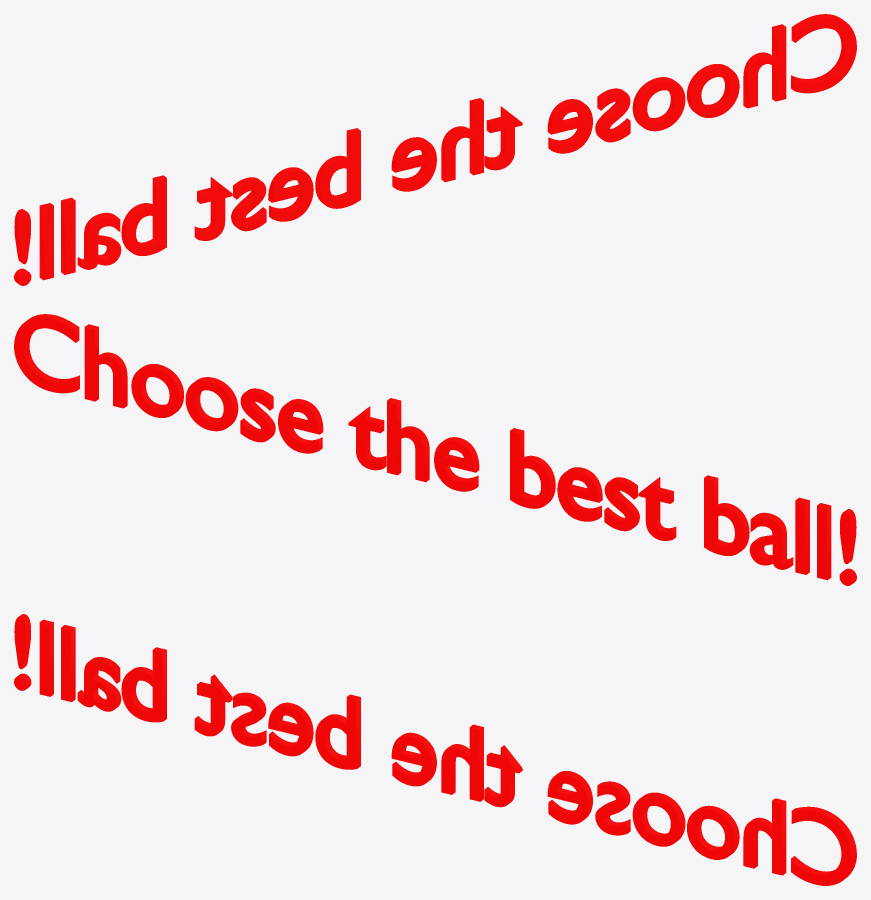
The model's file is choose_ball.gltf.
3 views of the same model, one above another, from view 1: azimuth 30°, elevation 25°; view 2: azimuth 150°, elevation 25°; view 3: azimuth 330°, elevation 25° (orthographic).
Visible parts, largest first — view 1: Text; view 2: Text; view 3: Text.
Part boxes in pixels (x1=…): Text: x1=14, y1=14, x2=856, y2=285; Text: x1=14, y1=314, x2=856, y2=585; Text: x1=14, y1=614, x2=856, y2=885.
Bounding box in the file's own units: 8.55 × 0.7201 × 0.08.
